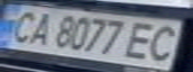0: (66, 14, 93, 52)
7: (103, 17, 133, 57), (84, 16, 109, 54)
8: (48, 11, 78, 50)
A: (21, 9, 60, 46)
C: (139, 22, 190, 63), (0, 8, 45, 44)
E: (121, 19, 166, 62)
